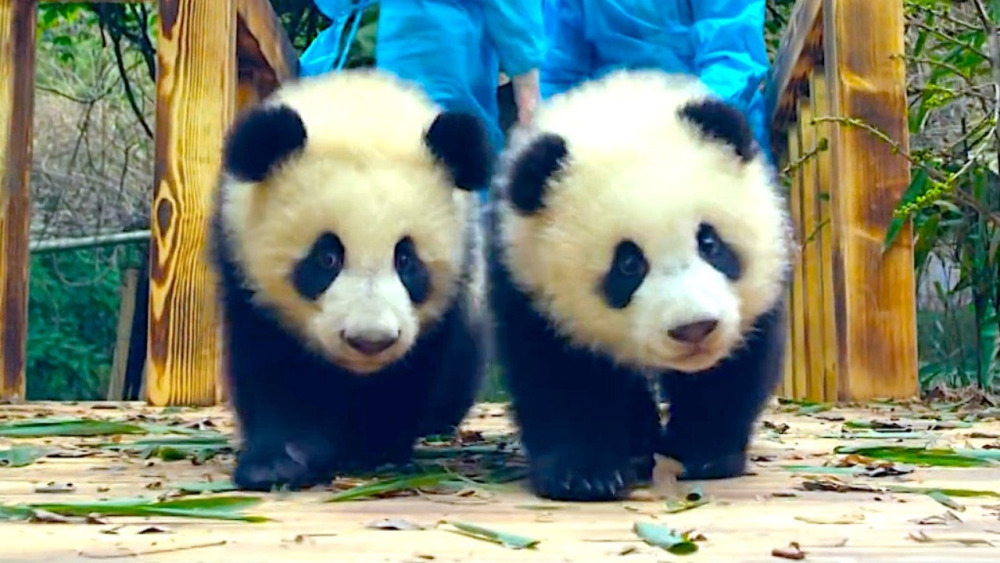panda: (161, 47, 493, 505), (504, 31, 826, 493)
